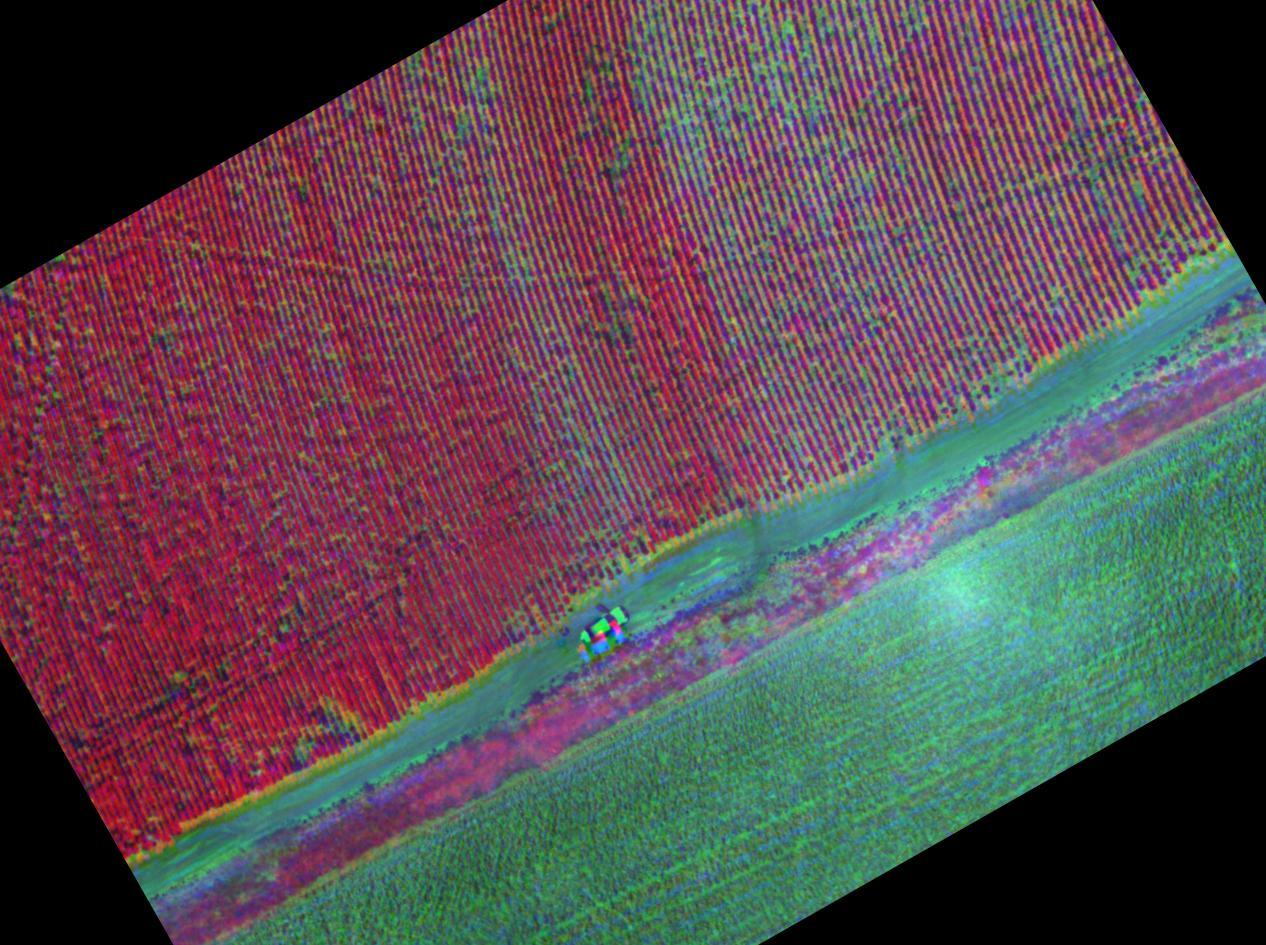dc: (831, 260, 946, 368), (636, 10, 733, 133), (751, 3, 842, 122), (723, 165, 827, 262)
